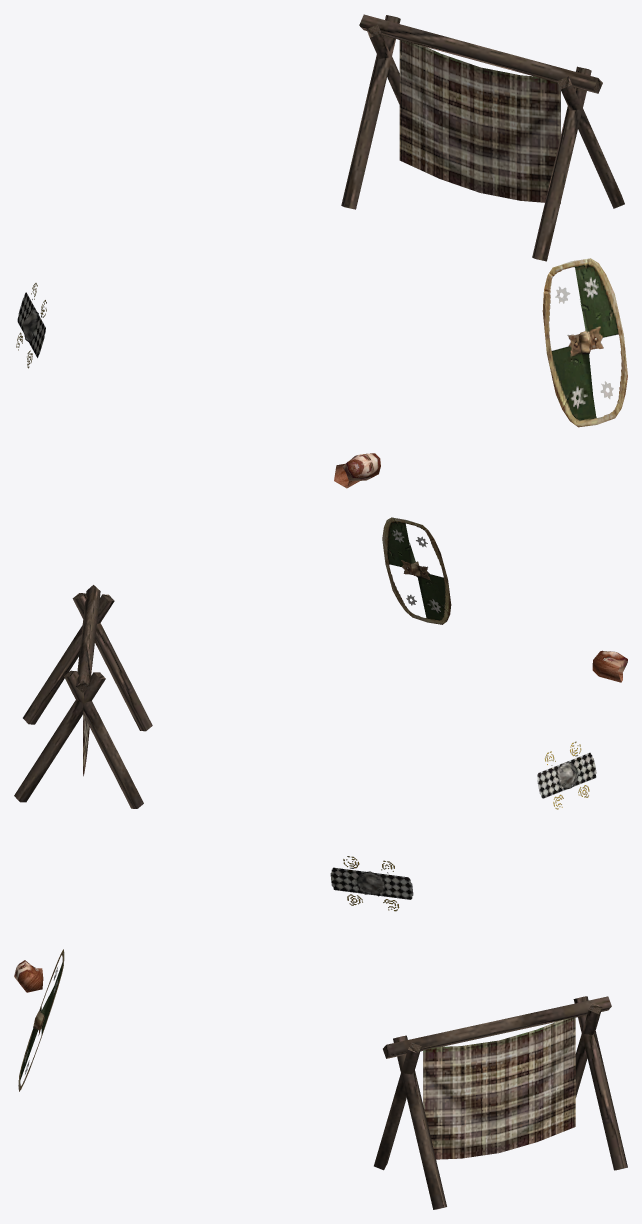
Rendered from celt_house_b_shields2.dae.
3 views of the same model, one above another, from view 1: azimuth 30°, elevation 25°; view 2: azimuth 150°, elevation 25°; view 3: azimuth 270°, elevation 25° (orthographic). The views are drawn at different scales.
Visible parts, largest first — view 1: Plane13; view 2: Plane13; view 3: Plane13.
Boxes of the visible parts, x1,y1,x2,y2 form: Plane13: (16, 14, 627, 488); Plane13: (14, 517, 627, 809); Plane13: (14, 856, 627, 1209).
Bounding box in the file's own units: 11.91 × 10.9 × 2.95.
